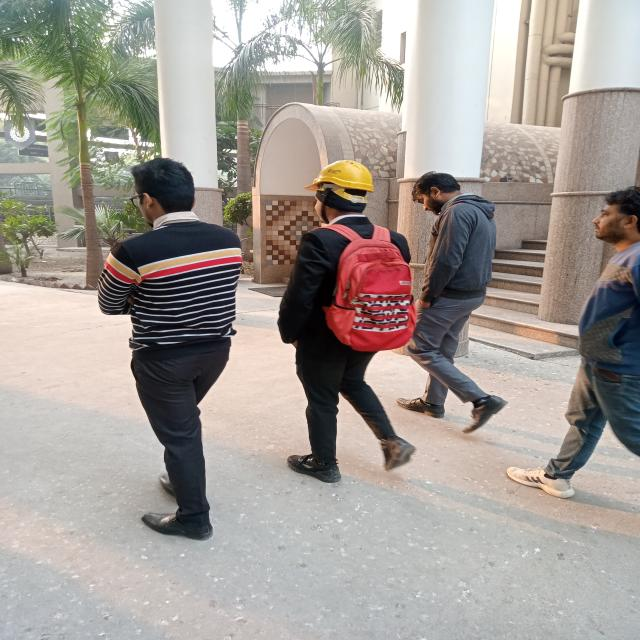no jacket: (280, 155, 413, 482)
unsafe: (95, 149, 251, 553), (550, 188, 640, 510), (405, 165, 508, 437)
